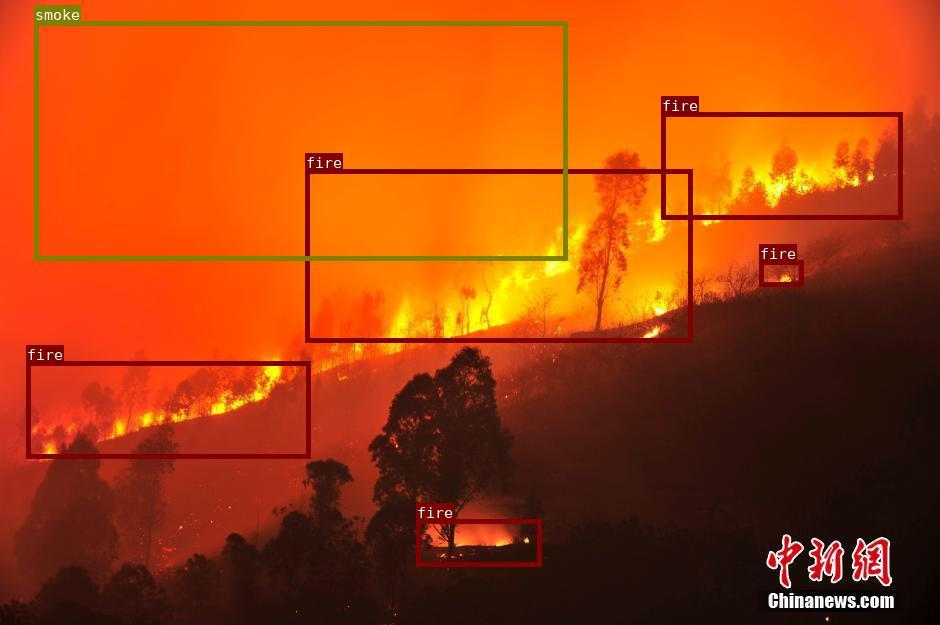fire: (305, 169, 691, 342), (26, 361, 309, 458), (660, 112, 901, 219), (416, 518, 541, 565), (759, 260, 802, 285)
smoke: (34, 21, 567, 259)
